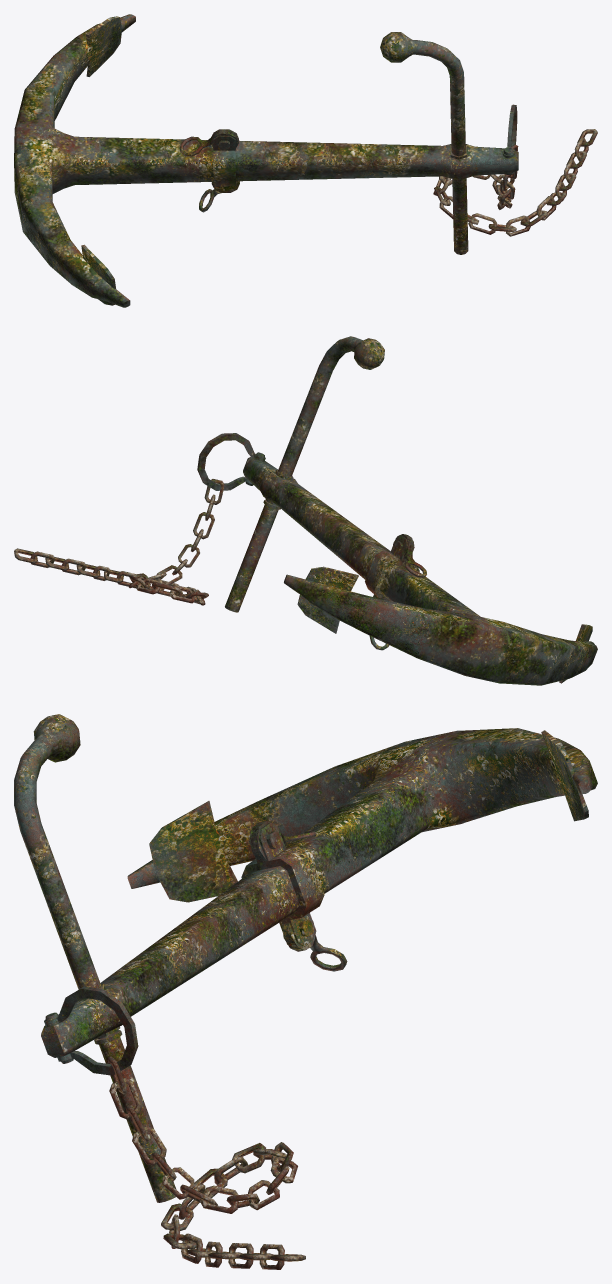
File: anchor animated.fbx
3 renders of one model, top to bottom at view 1: azimuth 30°, elevation 25°; view 2: azimuth 150°, elevation 25°; view 3: azimuth 270°, elevation 25°, orthographic. The views are drawn at different scales.
Parts seen in each view (by area): view 1: chain1; view 2: chain1; view 3: chain1.
Boxes of the visible parts, x1,y1,x2,y2 form: chain1: (14,14,597,307); chain1: (14,336,597,685); chain1: (14,714,597,1269).
Bounding box in the file's own units: 56.6 × 26.14 × 33.71.
1 material, 1 textured.
